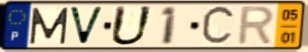1: (159, 5, 177, 47)
C: (199, 4, 237, 48)
M: (28, 6, 71, 46)
R: (235, 5, 277, 47)
U: (107, 5, 155, 48)
V: (67, 5, 106, 46)
